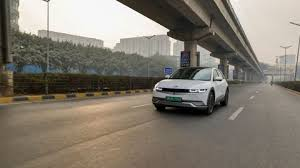Honda Ioniq: (144, 58, 238, 118)
